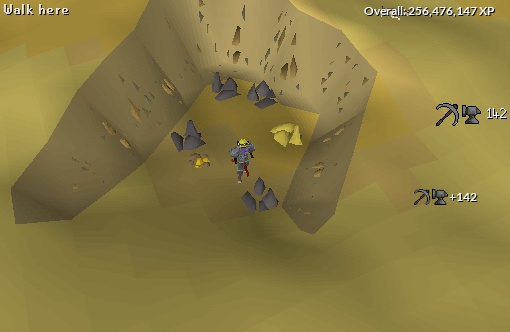depleted: (237, 179, 284, 213), (170, 120, 211, 154), (246, 79, 283, 112), (208, 70, 242, 102)
gold: (267, 119, 307, 148)
